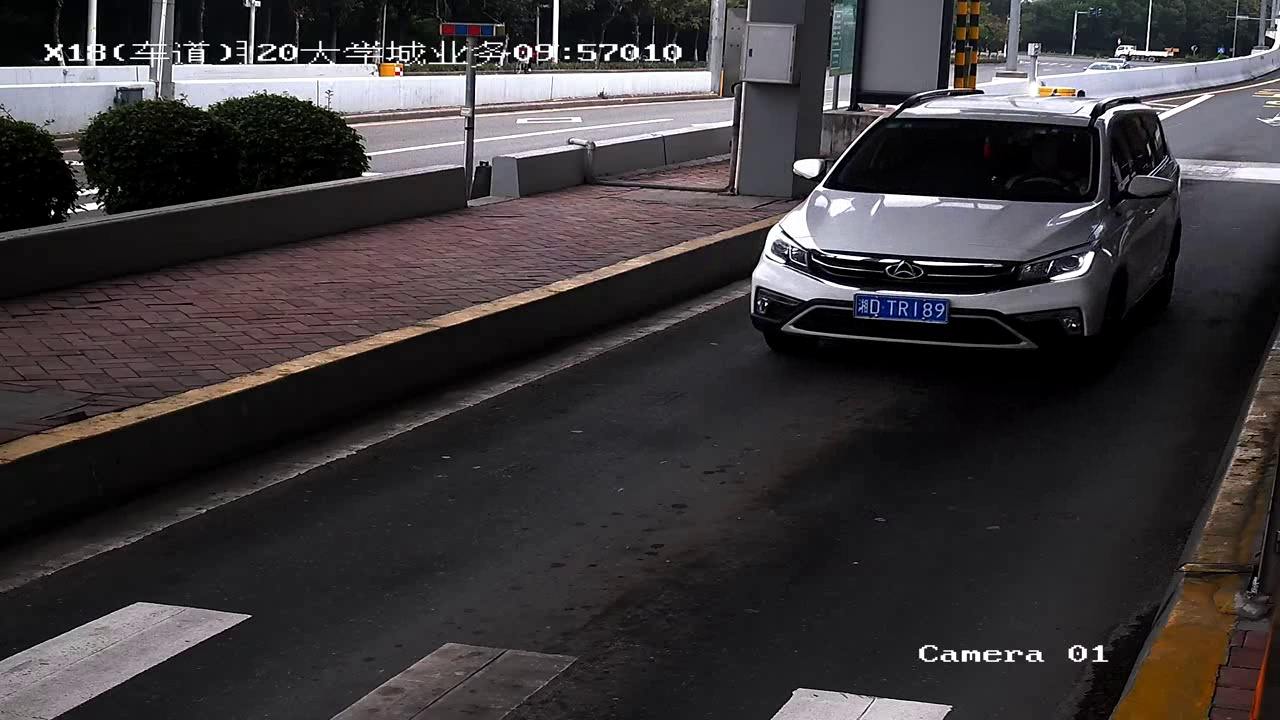bluePlate: (849, 291, 952, 327)
car: (740, 76, 1191, 385)
